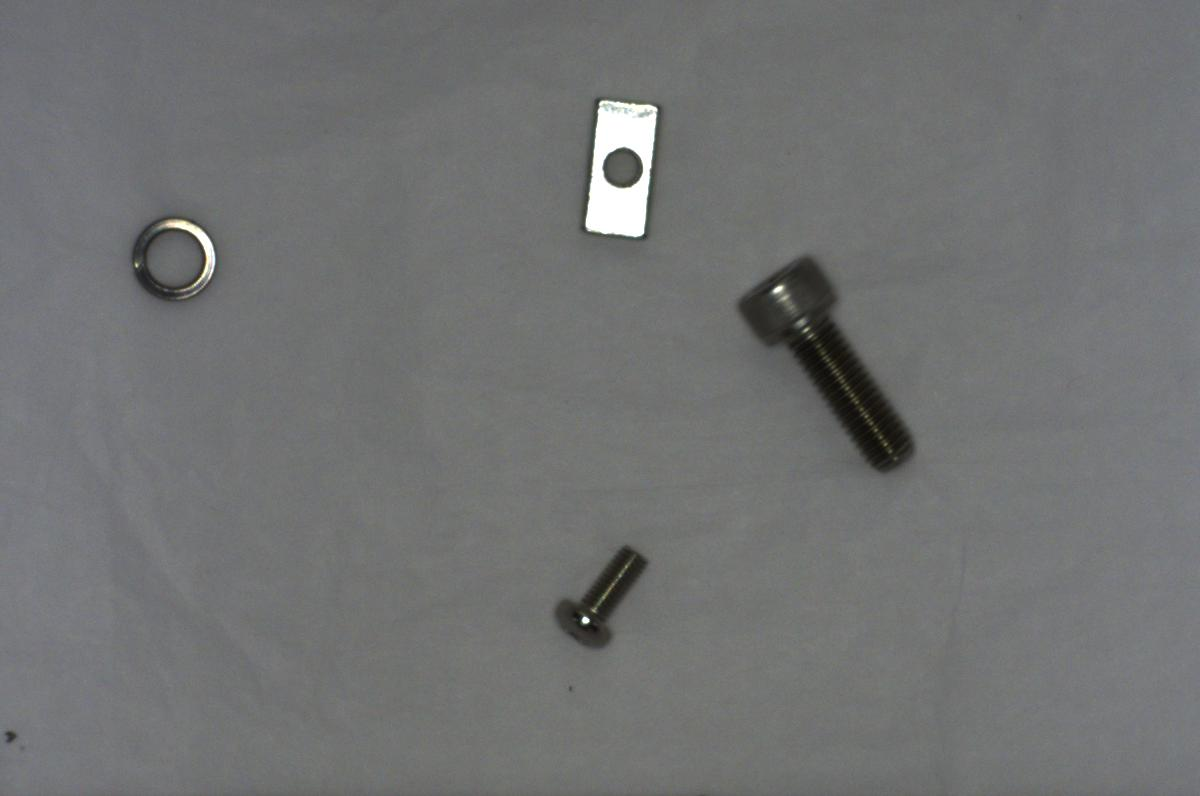Hexagon screw: (730, 249, 920, 473)
Rectangular nut: (574, 92, 667, 243)
Round head screw: (545, 534, 654, 649)
Spring washer: (126, 214, 220, 303)
